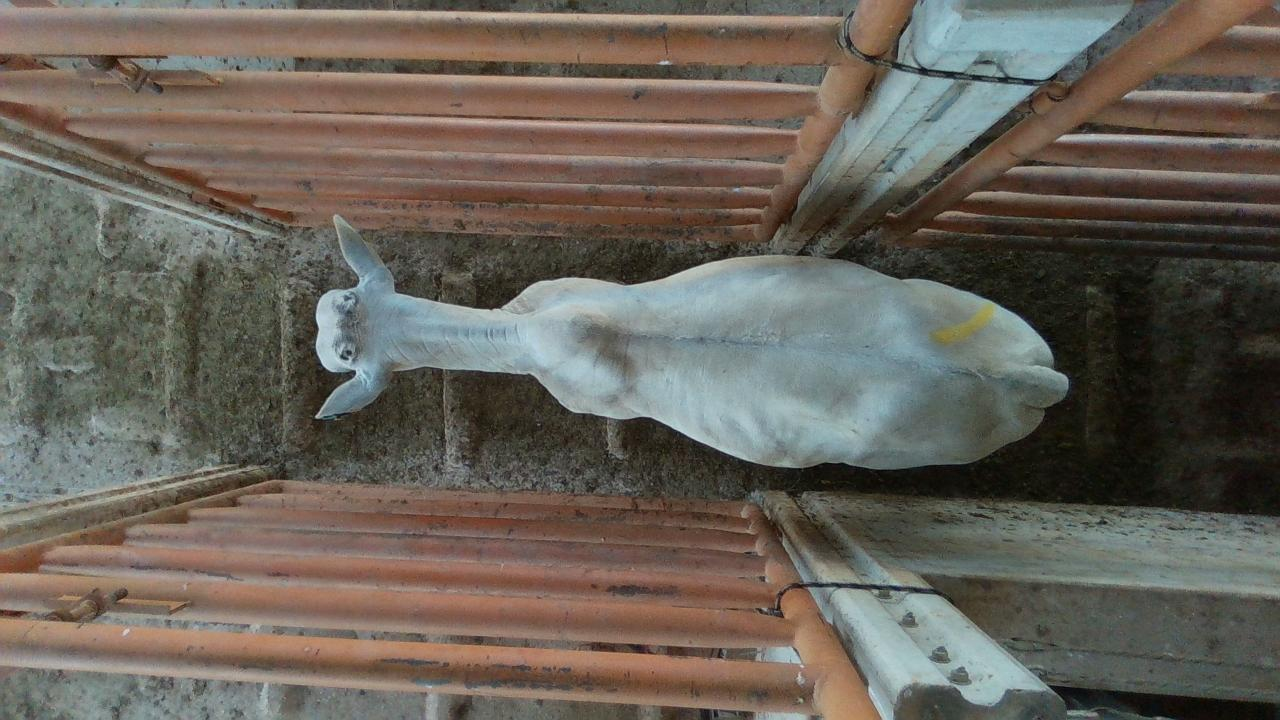cattle: (311, 212, 1070, 472)
